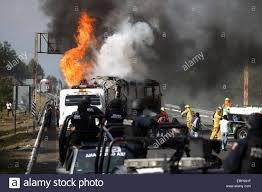fire: (57, 6, 98, 90)
